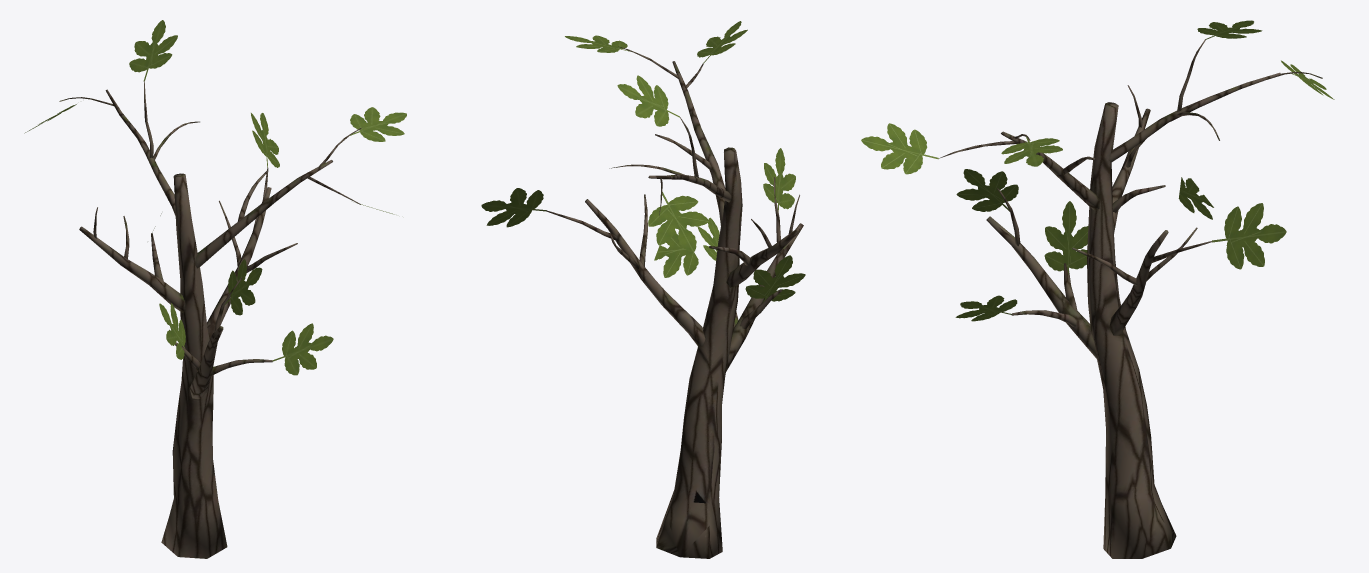
File: kit_tree_lod1.glb
3 views of the same model, side by side, from view 1: azimuth 30°, elevation 25°; view 2: azimuth 150°, elevation 25°; view 3: azimuth 270°, elevation 25° (orthographic). The views are drawn at different scales.
Visible parts, largest first — view 1: Trunk_lod1, Leaves_lod1; view 2: Trunk_lod1, Leaves_lod1; view 3: Trunk_lod1, Leaves_lod1.
Part boxes in pixels (bbox=[...]): Trunk_lod1: bbox=[59, 81, 361, 558]; Leaves_lod1: bbox=[24, 20, 406, 375]; Trunk_lod1: bbox=[546, 46, 803, 558]; Leaves_lod1: bbox=[481, 21, 805, 302]; Trunk_lod1: bbox=[939, 39, 1322, 558]; Leaves_lod1: bbox=[861, 20, 1334, 321].
Size of the model in its own units: 2.59 by 4.35 by 3.56.
Materials: 2 (2 with a texture image).
